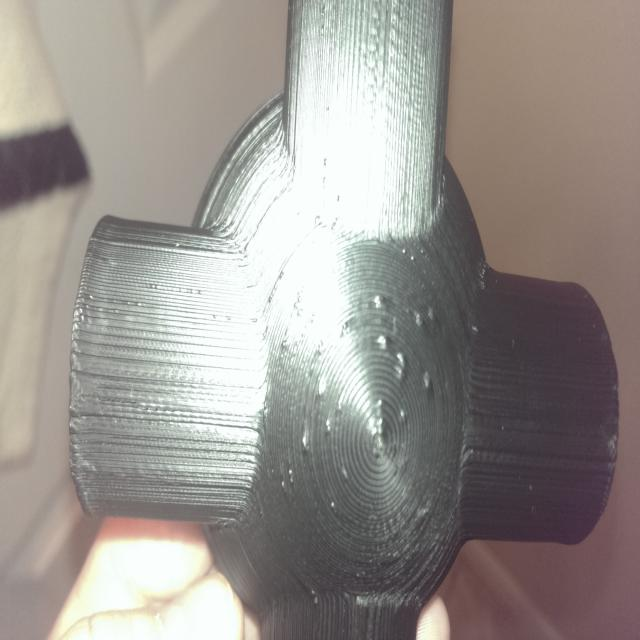blobs: (363, 291, 447, 392), (287, 350, 340, 466)
